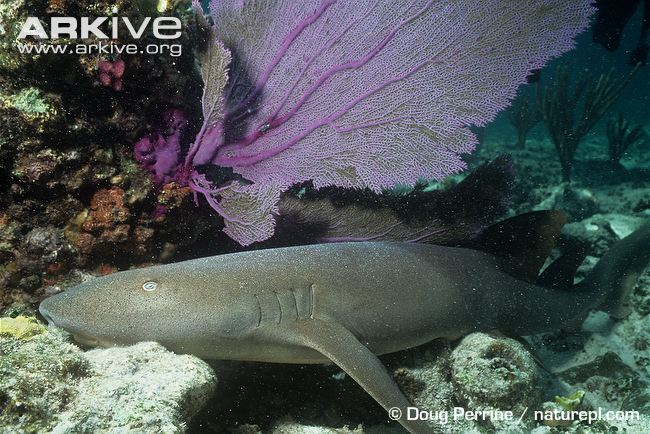shark: (26, 210, 638, 421)
